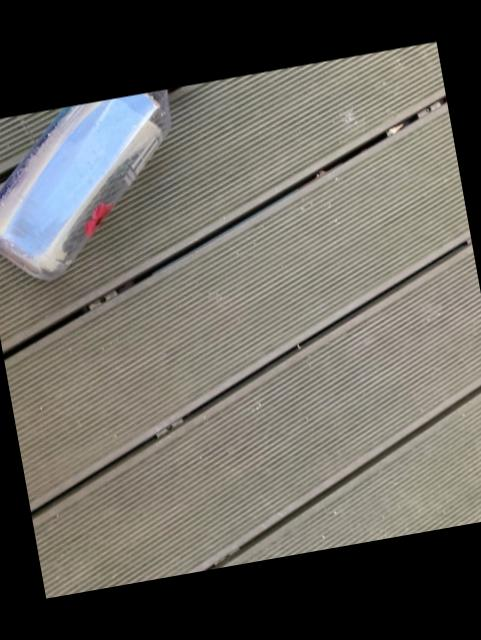plastic: (0, 90, 166, 278)
